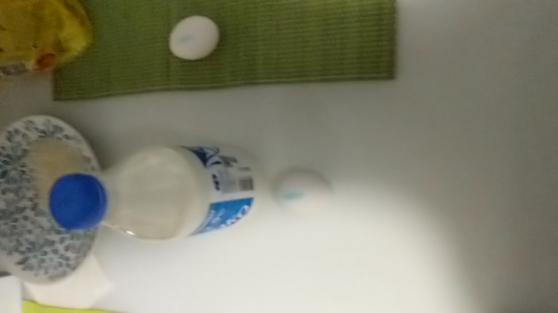egg: (270, 165, 336, 220), (155, 13, 225, 61)
milk: (40, 137, 270, 248)
